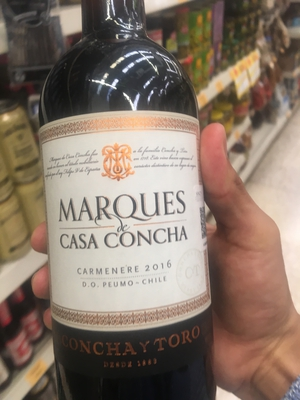marques de casa concha carmenere: (40, 19, 220, 400)
